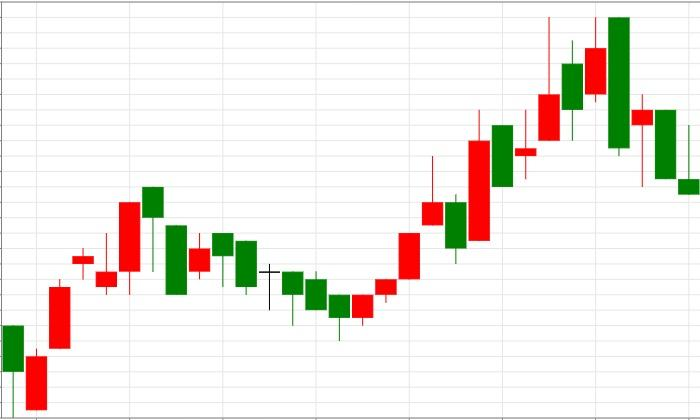bearish_engulfing_fall: (352, 17, 630, 326)
hanging_man_fall: (26, 187, 163, 410)
